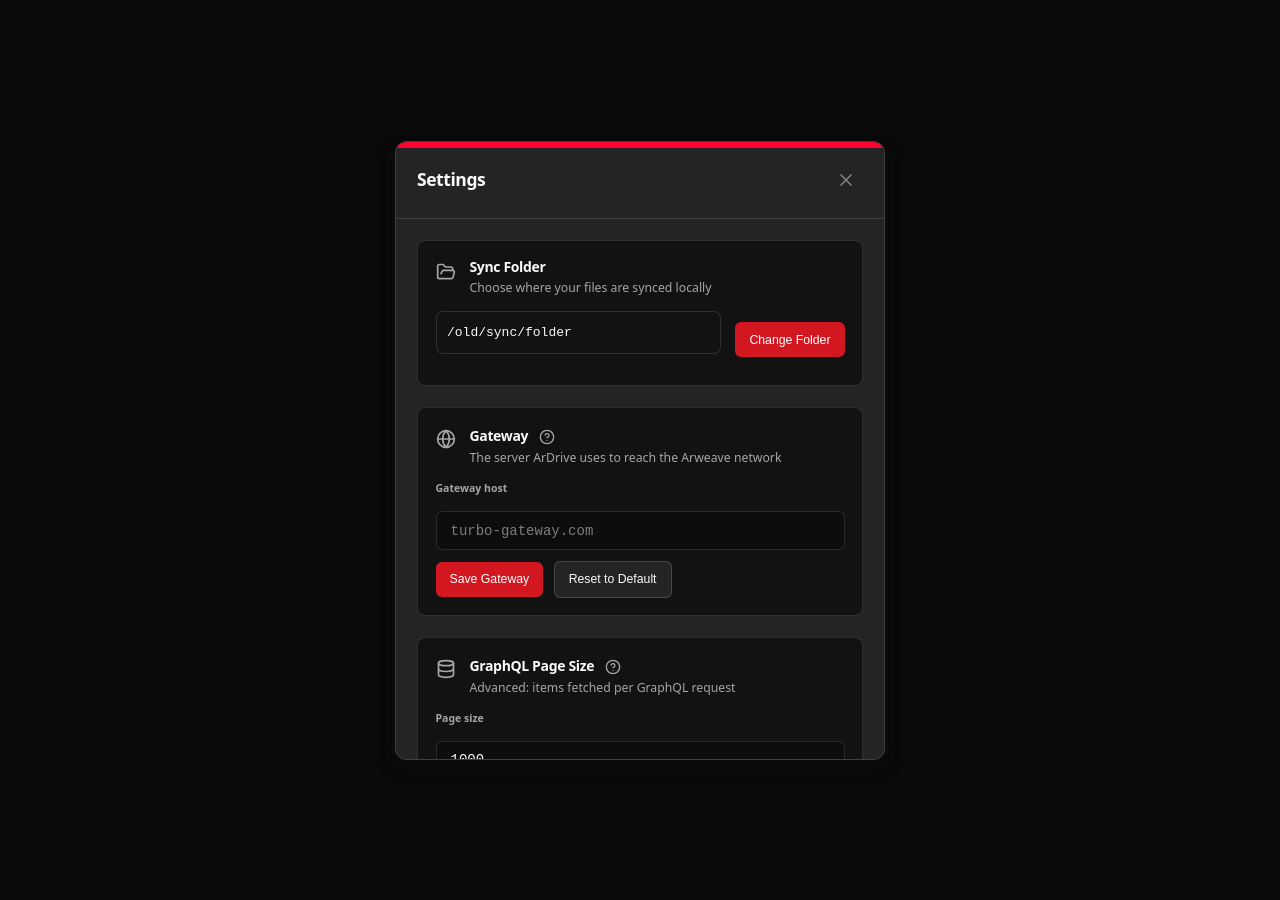
Test: Settings — Change Folder (UX-2) › reports when the folder changed but sync could not restart
Click the button "Change Folder": click(790, 340) [736,322,844,357]
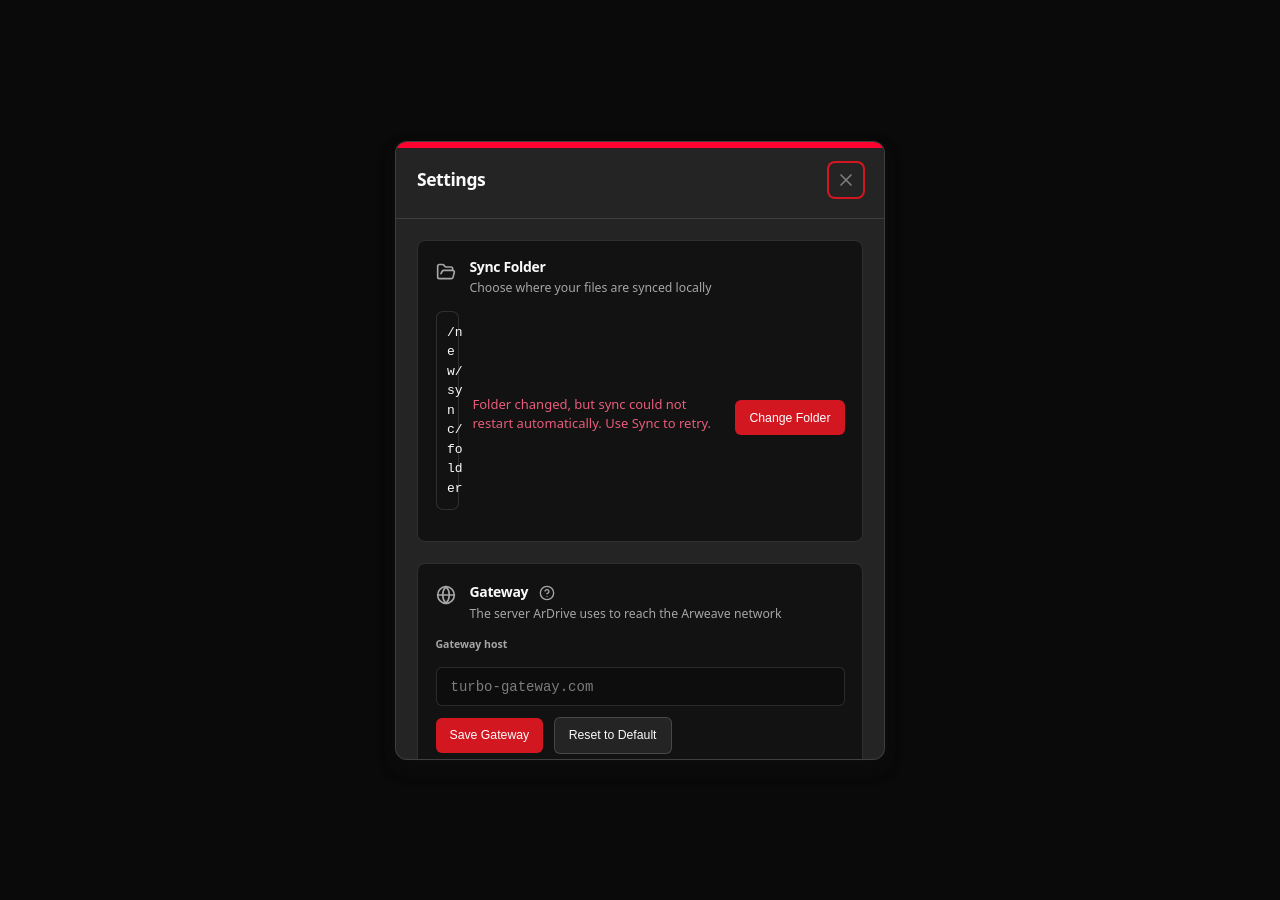
Result: the text "/new/sync/folder" is shown at [436,311,458,510]
Result: the text "Folder changed, but sync could not restart automatically. Use Sync to retry." is shown at [472,395,722,434]
